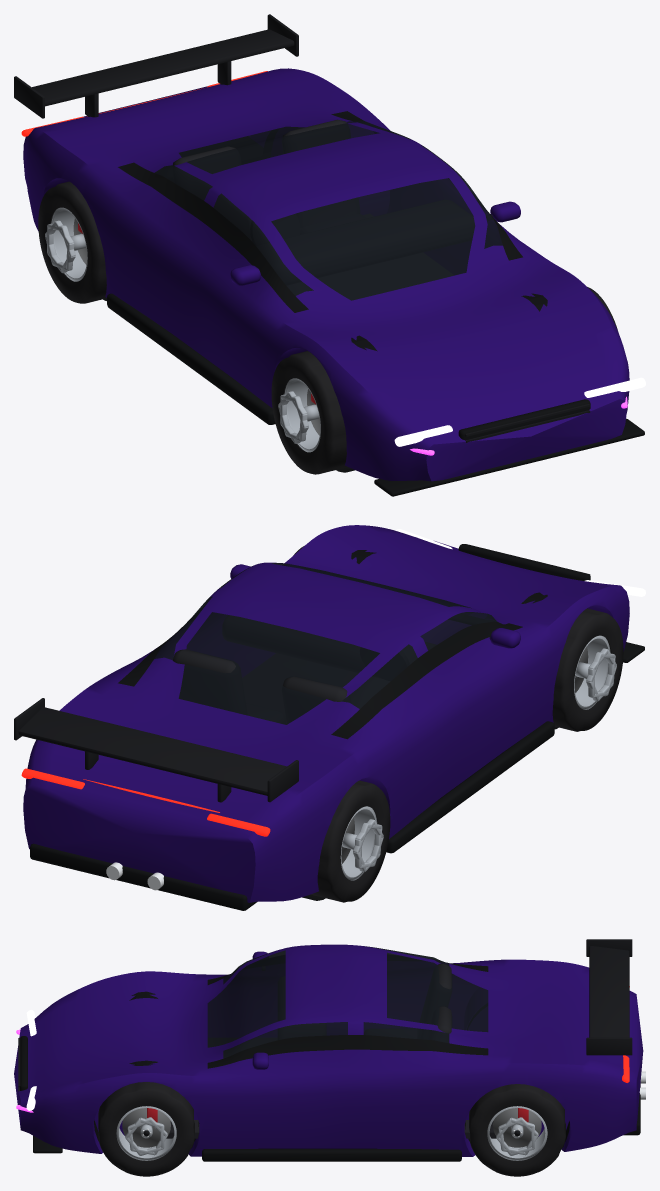
Rendered from street-racer.glb.
3 renders of one model, top to bottom at view 1: azimuth 30°, elevation 25°; view 2: azimuth 150°, elevation 25°; view 3: azimuth 270°, elevation 25°, orthographic. The views are drawn at different scales.
Parts seen in each view (by area): view 1: Body, Wing, WheelFL, WheelRL; view 2: Body, Wing, WheelFL, WheelRL; view 3: Body, WheelFR, WheelRR, Wing.
Boxes of the visible parts, x1=… form: Body: x1=21, y1=68, x2=645, y2=496; Wing: x1=14, y1=14, x2=298, y2=118; WheelFL: x1=271, y1=351, x2=347, y2=474; WheelRL: x1=38, y1=181, x2=106, y2=303; Body: x1=21, y1=525, x2=645, y2=910; Wing: x1=14, y1=698, x2=298, y2=802; WheelFL: x1=552, y1=608, x2=623, y2=731; WheelRL: x1=311, y1=780, x2=390, y2=902; Body: x1=14, y1=944, x2=645, y2=1161; WheelFR: x1=98, y1=1082, x2=194, y2=1176; WheelRR: x1=469, y1=1084, x2=565, y2=1176; Wing: x1=586, y1=939, x2=632, y2=1055.
Bounding box in the file's own units: 2.12 × 1.19 × 4.67.
